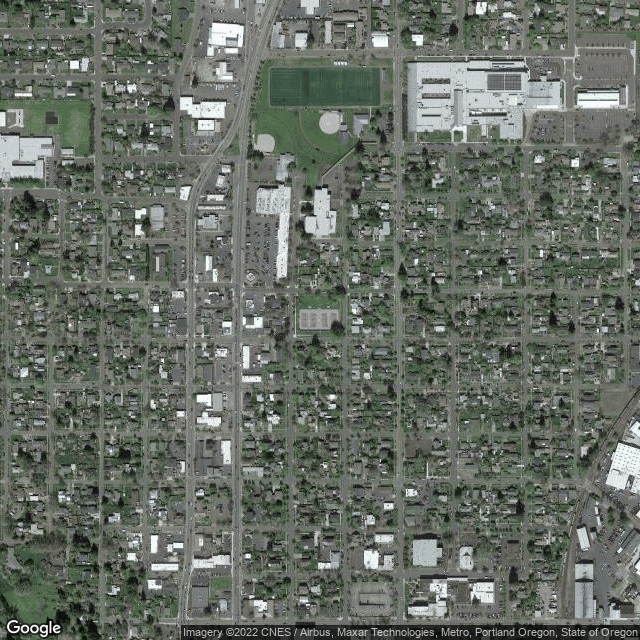Court: (318, 312, 328, 328), (308, 312, 317, 328), (329, 312, 338, 328), (300, 312, 308, 328)
